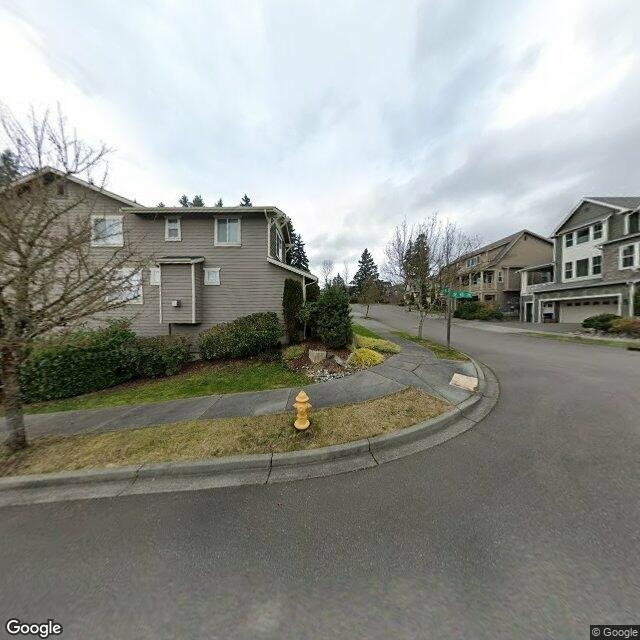hydrant: (281, 390, 318, 433)
